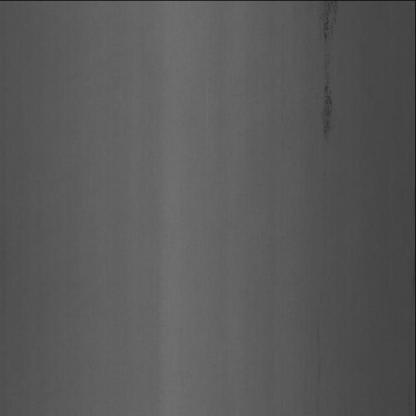inclusion: (316, 3, 346, 147)
